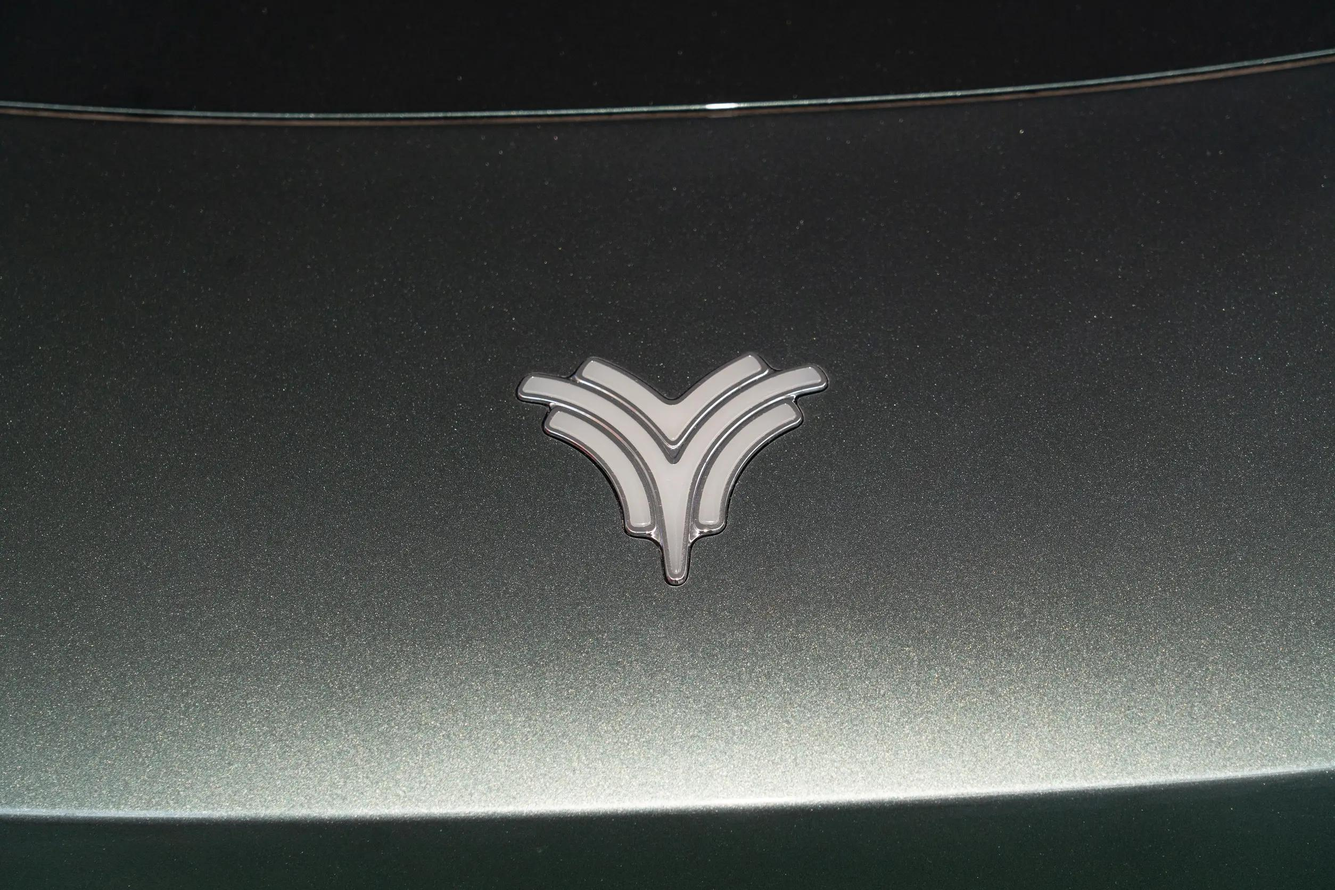NETA: (517, 350, 831, 589)
